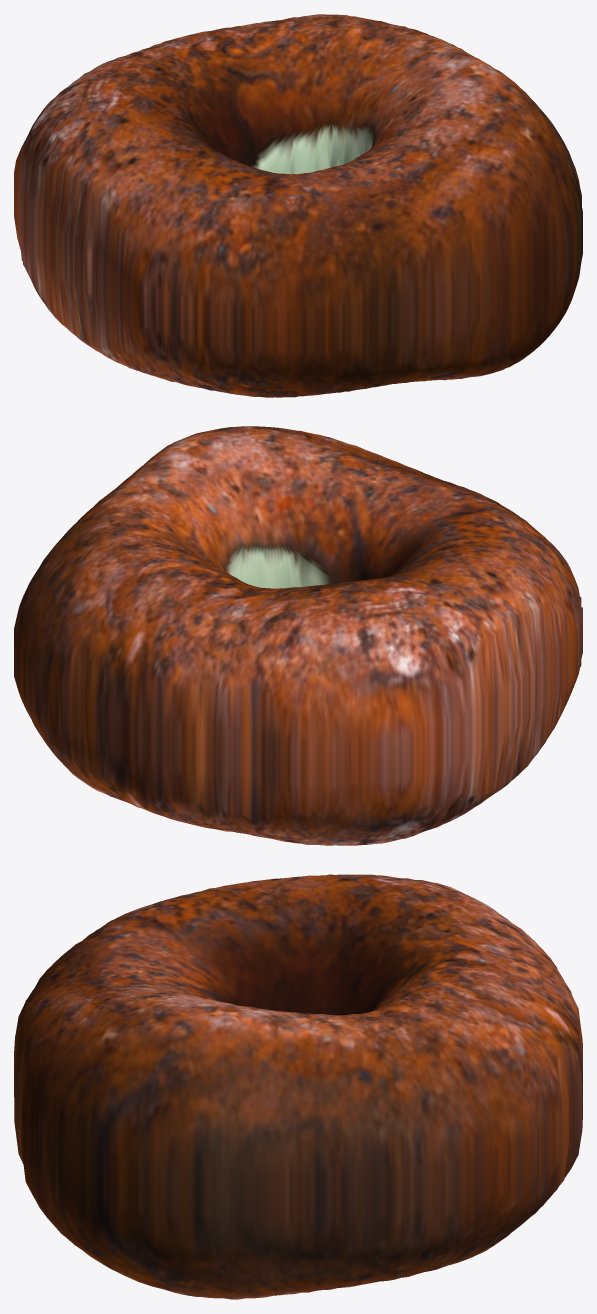
File: donut_2_2.obj
3 views of the same model, one above another, from view 1: azimuth 30°, elevation 25°; view 2: azimuth 150°, elevation 25°; view 3: azimuth 270°, elevation 25° (orthographic). The views are drawn at different scales.
Visible parts, largest first — view 1: Grid; view 2: Grid; view 3: Grid.
Part boxes in pixels (bbox=[...]): Grid: bbox=[14, 14, 582, 397]; Grid: bbox=[14, 426, 582, 845]; Grid: bbox=[14, 874, 582, 1299].
Size of the model in its own units: 1.59 by 0.9 by 1.65.
